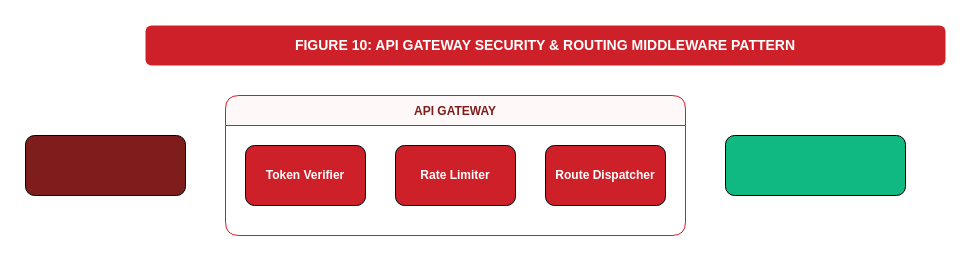
Image size: 962x253. Some labels were removed from this diagram. The centre of each missing label's shape, as x and y in pixels:
Incoming HTTP Request: the point at 105,165
Target Microservice Endpoint: the point at 815,165
